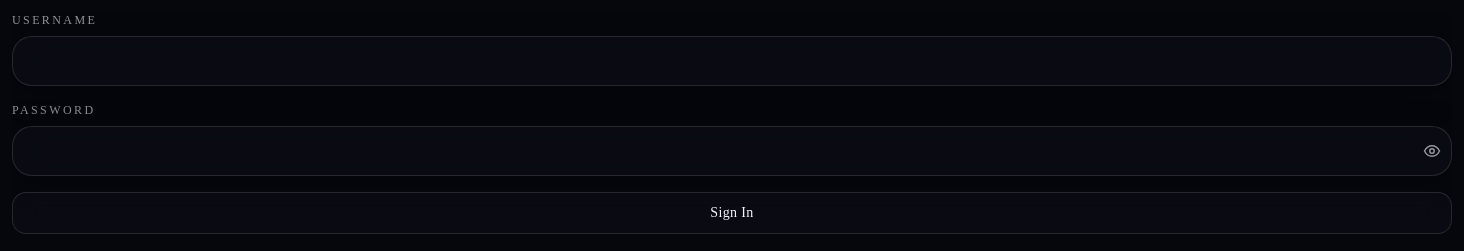
Test: PasswordForm › keeps the caret aligned with the * mask while typing and deleting
Step 1. Type "hunter2" into the field labelled "Password" → (732, 151), box [12,126,1452,176]
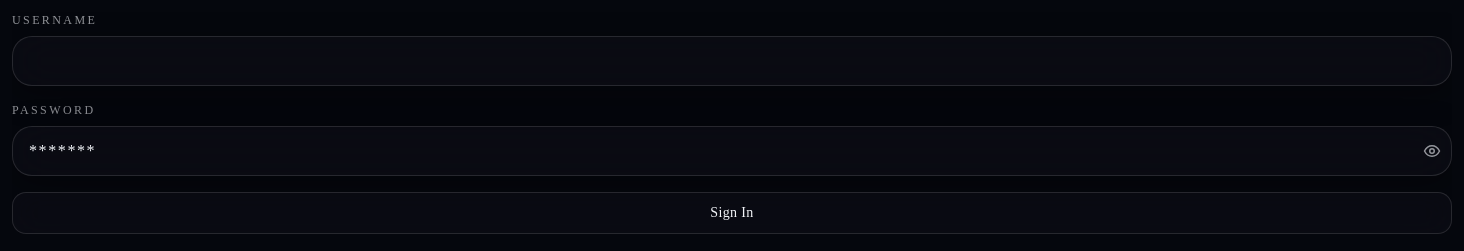
Check: the field labelled "Password" holds "*******"
Step 2. Type "X" into the field labelled "Password" → (732, 151), box [12,126,1452,176]
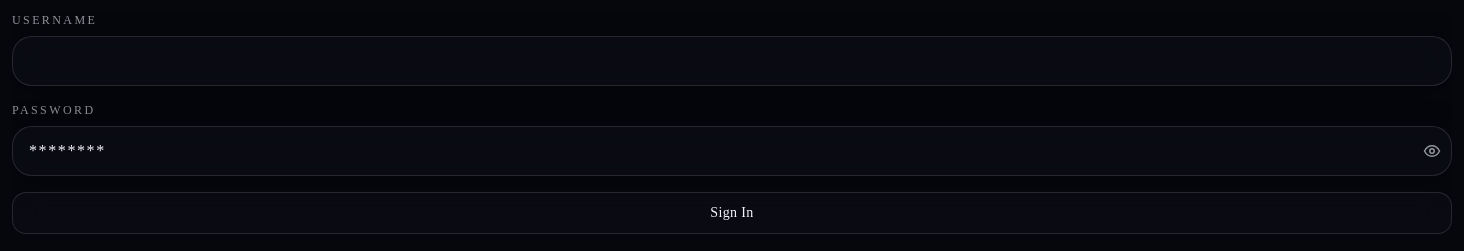
Check: the field labelled "Password" holds "********", box [12,126,1452,176]
Step 3. Click the button named "show password" → (1432, 151), box [1412,126,1452,176]
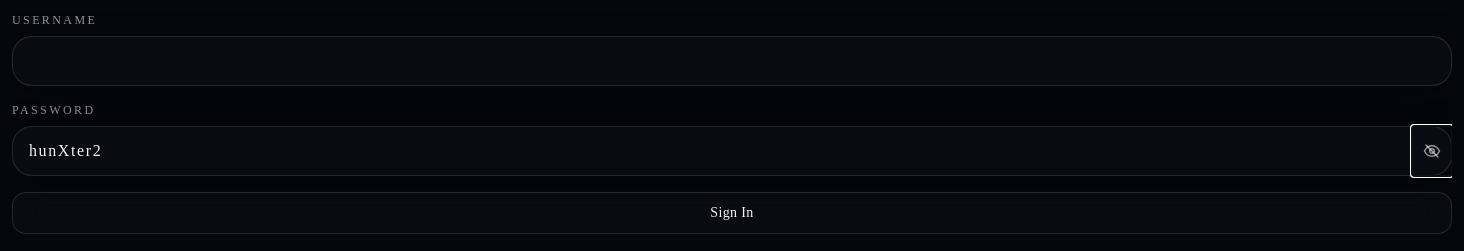
Check: the field labelled "Password" holds "hunXter2", box [12,126,1452,176]
